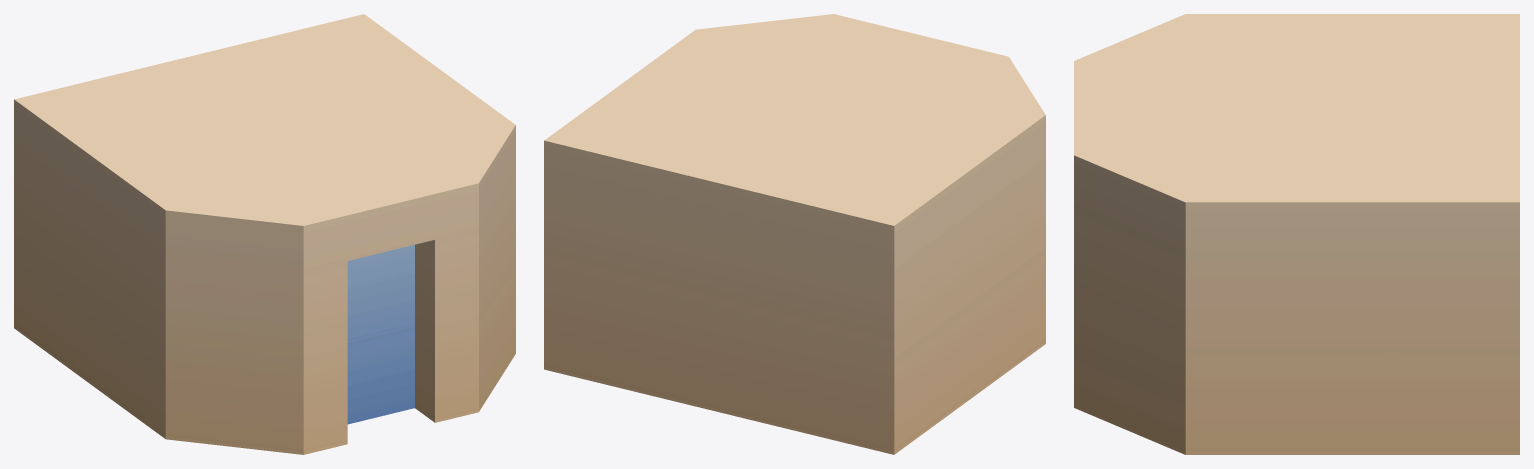
Rendered from building-edges-door.glb.
3 views of the same model, side by side, from view 1: azimuth 30°, elevation 25°; view 2: azimuth 150°, elevation 25°; view 3: azimuth 270°, elevation 25° (orthographic). The views are drawn at different scales.
Parts seen in each view (by area): view 1: building-edges-door; view 2: building-edges-door; view 3: building-edges-door.
Boxes of the visible parts, x1,y1,x2,y2 form: building-edges-door: (14, 14, 515, 454); building-edges-door: (544, 14, 1045, 454); building-edges-door: (1074, 14, 1519, 454).
Bounding box in the file's own units: 1 × 0.625 × 1.
1 material, 1 textured.
